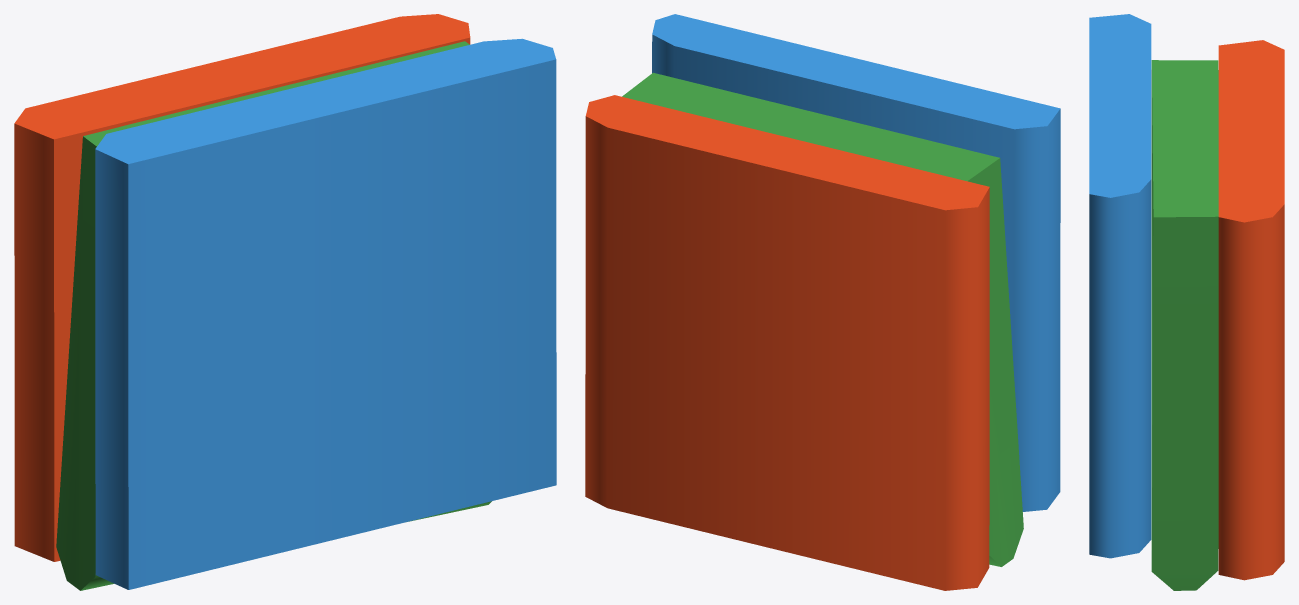
The model's file is fabric-stack-c.glb.
3 views of the same model, side by side, from view 1: azimuth 30°, elevation 25°; view 2: azimuth 150°, elevation 25°; view 3: azimuth 270°, elevation 25° (orthographic). The views are drawn at different scales.
Visible parts, largest first — view 1: shop_030; view 2: shop_030; view 3: shop_030.
Part boxes in pixels (<box>): shop_030: <box>14,14,556,590</box>; shop_030: <box>585,14,1060,590</box>; shop_030: <box>1089,14,1284,590</box>.
Size of the model in its own units: 0.4031 by 0.4102 by 0.1796.
Materials: 1 (1 with a texture image).
